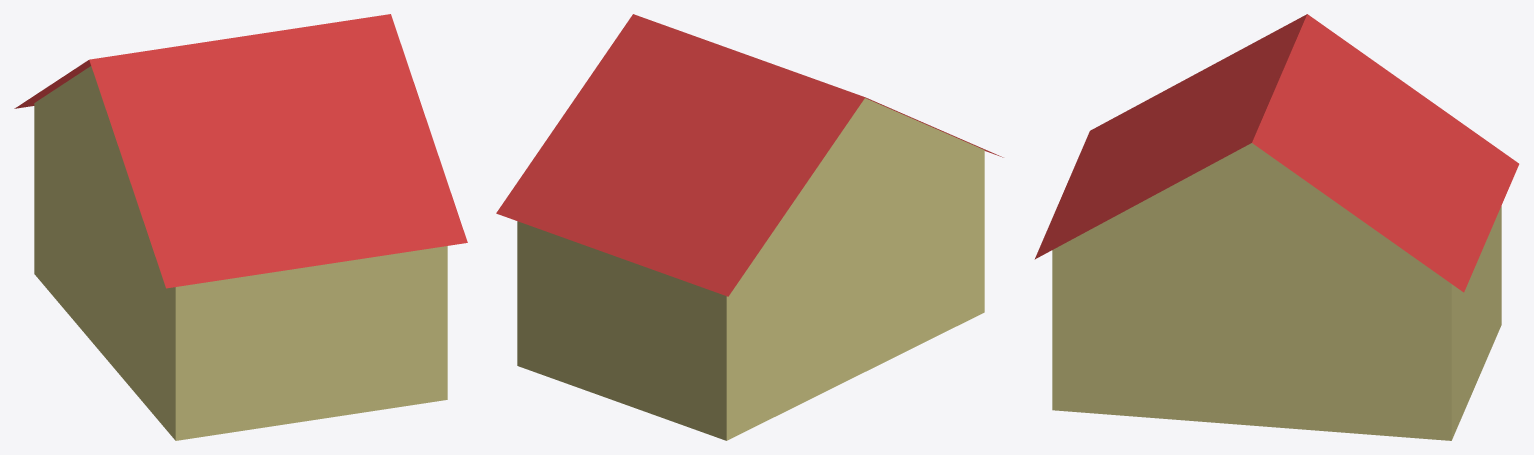
3 renders of one model, left to right at view 1: azimuth 30°, elevation 25°; view 2: azimuth 150°, elevation 25°; view 3: azimuth 270°, elevation 25°, orthographic. The views are drawn at different scales.
Bounding box in the file's own units: 12.51 × 15.84 × 10.42.
